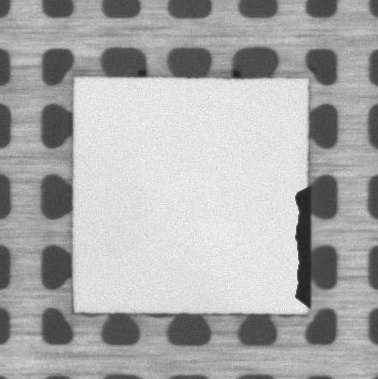DIE_BROKEN: (292, 183, 313, 311)
